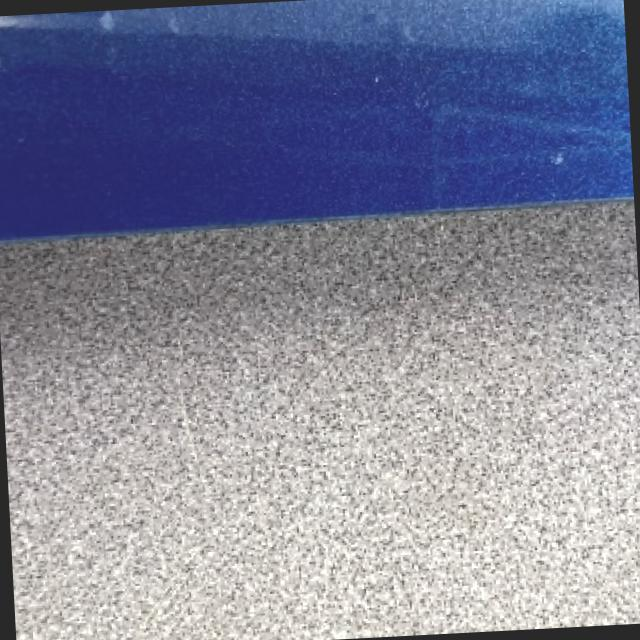healthy: (0, 0, 640, 640), (0, 0, 634, 238)
